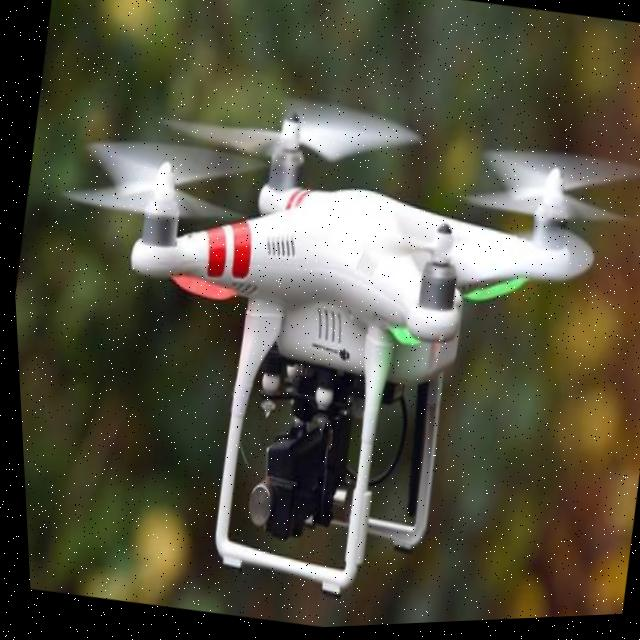drones: (2, 26, 640, 640)
